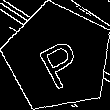P_NW: (30, 27, 87, 88)
